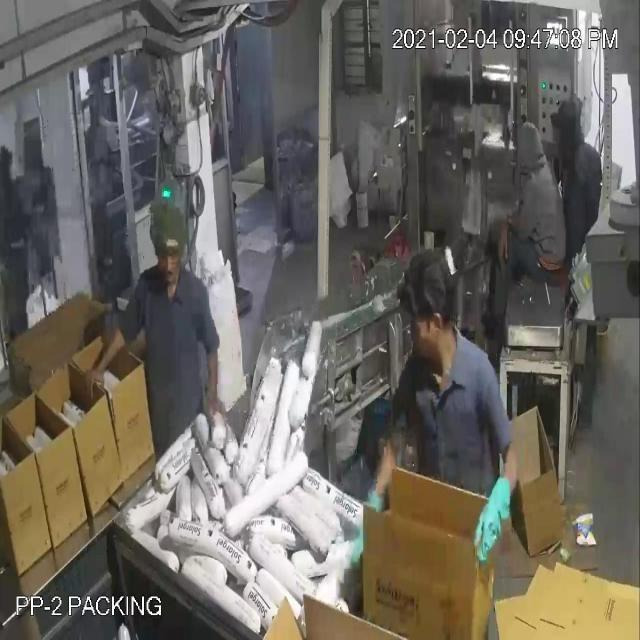No_Gloves: (31, 92, 496, 510)
